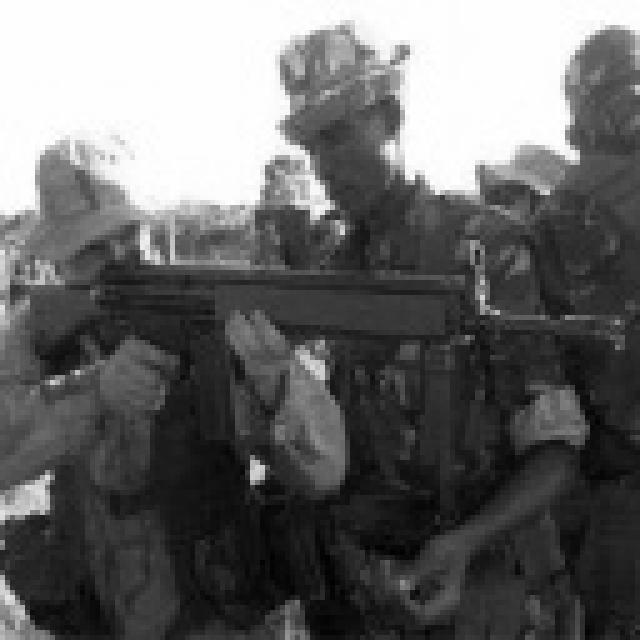Rifle: (60, 211, 640, 453)
